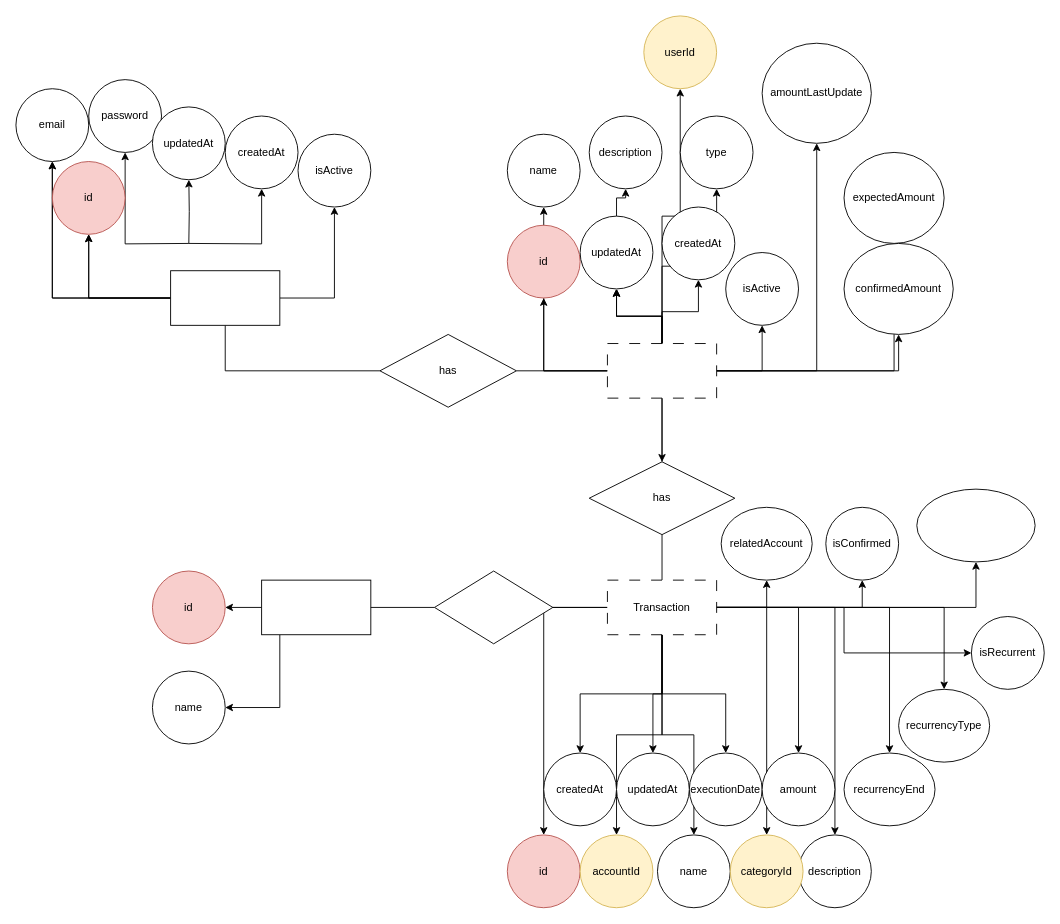
This 1060x924 diagram has some shape labels left out. Each missing label, with the centre of its shape:
Account: point 662,370
belongsTo: point 493,607
Category: point 316,607
transactionReference: point 975,525
User: point 225,297
